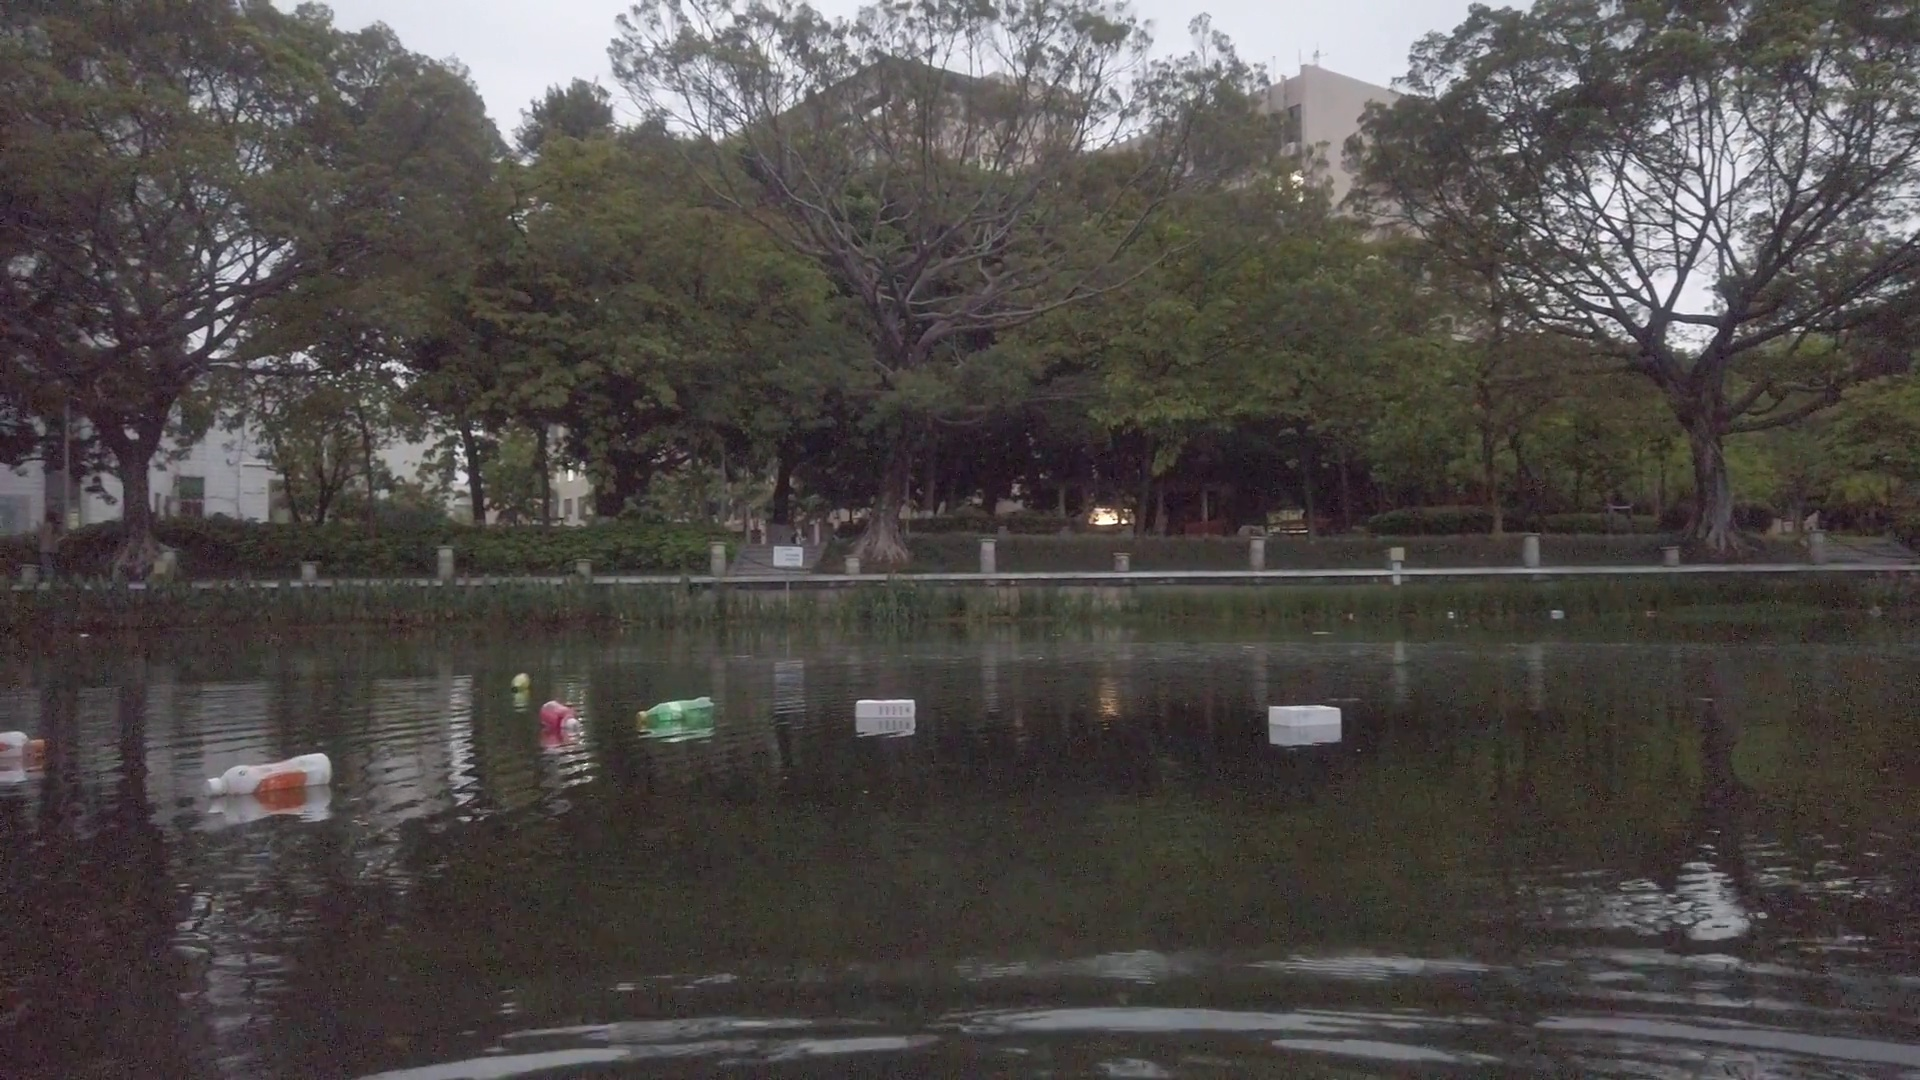bottle: (208, 754, 331, 796), (636, 698, 713, 725), (537, 700, 582, 733), (512, 673, 529, 694)
carton: (1267, 704, 1342, 728), (855, 698, 916, 719), (1552, 608, 1567, 618)
